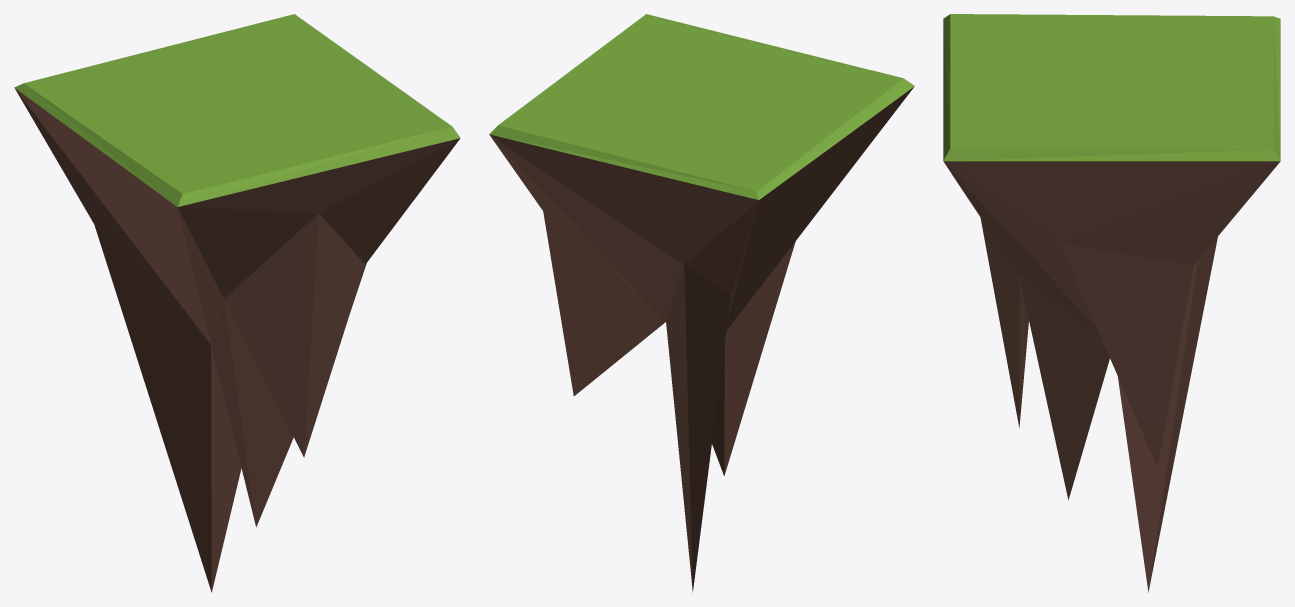
File: Land.gltf
3 views of the same model, side by side, from view 1: azimuth 30°, elevation 25°; view 2: azimuth 150°, elevation 25°; view 3: azimuth 270°, elevation 25° (orthographic). The views are drawn at different scales.
Parts seen in each view (by area): view 1: node_MeshObject2037044928-PolyPaper20; view 2: node_MeshObject2037044928-PolyPaper20; view 3: node_MeshObject2037044928-PolyPaper20.
Boxes of the visible parts, x1,y1,x2,y2 form: node_MeshObject2037044928-PolyPaper20: [14, 14, 460, 592]; node_MeshObject2037044928-PolyPaper20: [489, 14, 914, 592]; node_MeshObject2037044928-PolyPaper20: [943, 14, 1280, 592].
Bounding box in the file's own units: 0.87 × 1.47 × 0.87.
